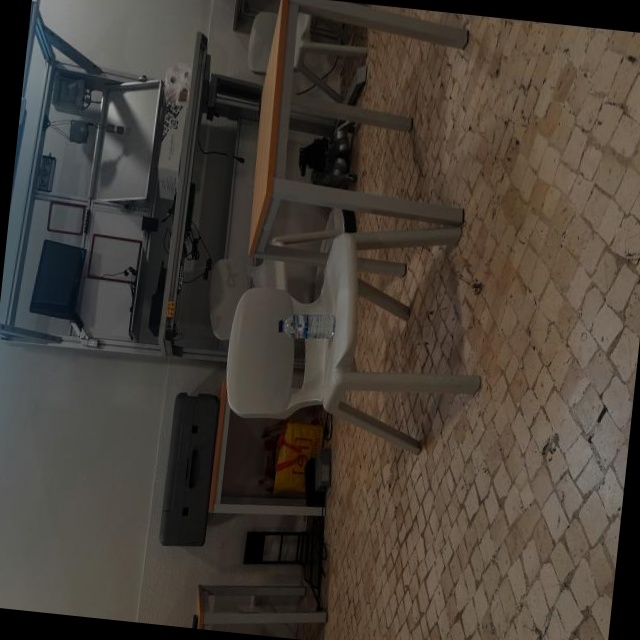Plastic-bottle: (278, 312, 336, 342)
